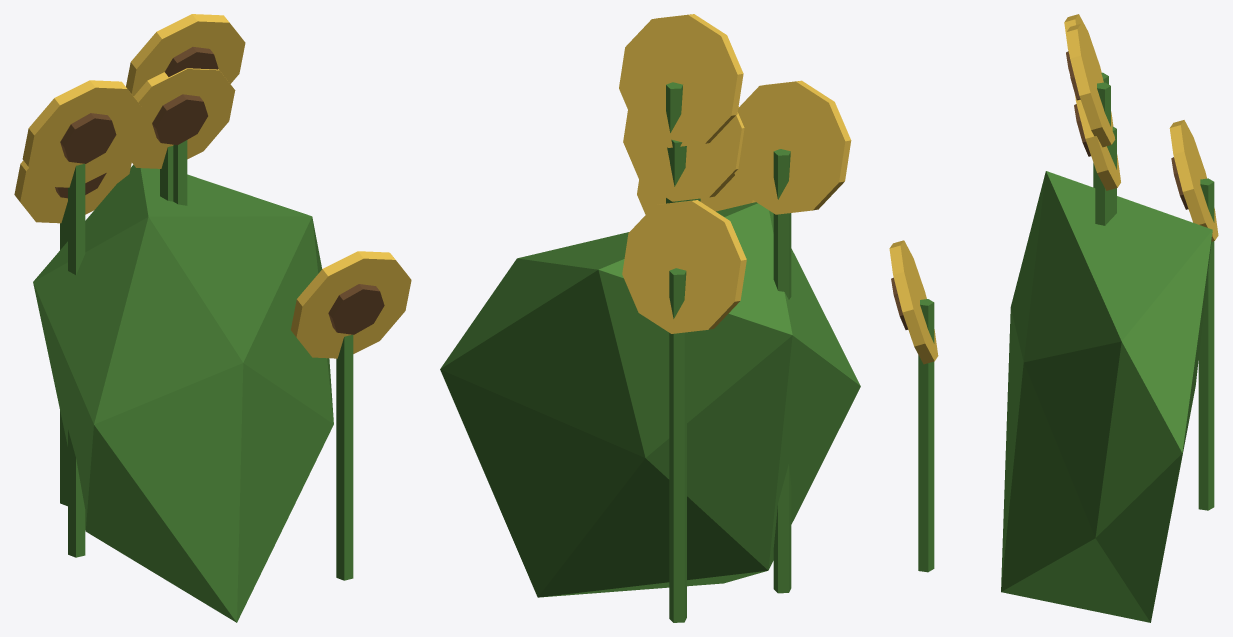
Rendered from getkong-hhblume3.glb.
3 views of the same model, side by side, from view 1: azimuth 30°, elevation 25°; view 2: azimuth 150°, elevation 25°; view 3: azimuth 270°, elevation 25° (orthographic). The views are drawn at different scales.
Parts seen in each view (by area): view 1: blume3; view 2: blume3; view 3: blume3.
Part boxes in pixels (x1,y1,x2,y2): blume3: [14, 14, 411, 622]; blume3: [440, 14, 860, 622]; blume3: [889, 14, 1218, 622].
Size of the model in its own units: 0.66 by 1.07 by 0.5668.
